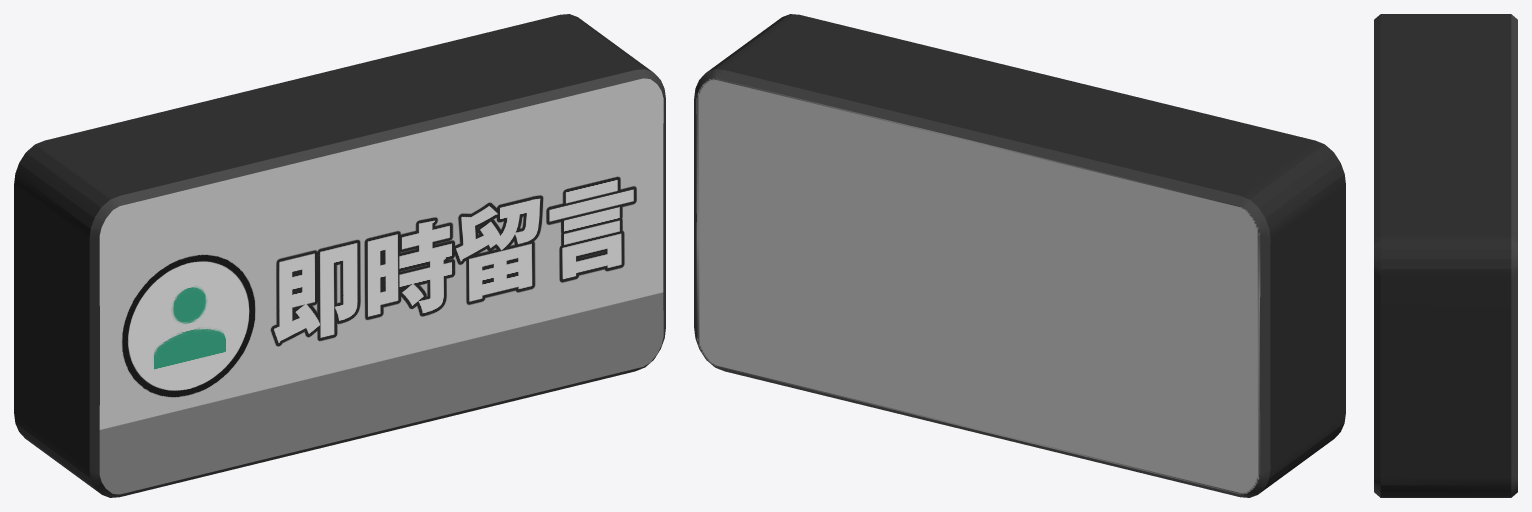
The model's file is Beat.fbx.
3 renders of one model, left to right at view 1: azimuth 30°, elevation 25°; view 2: azimuth 150°, elevation 25°; view 3: azimuth 270°, elevation 25°, orthographic. The views are drawn at different scales.
Visible parts, largest first — view 1: pCube3; view 2: pCube3; view 3: pCube3.
Part boxes in pixels (x1,y1,x2,y2): pCube3: (14,14,665,497); pCube3: (694,14,1345,497); pCube3: (1374,14,1517,497).
Bounding box in the file's own units: 200 × 99.96 × 50.
1 material, 1 textured.
